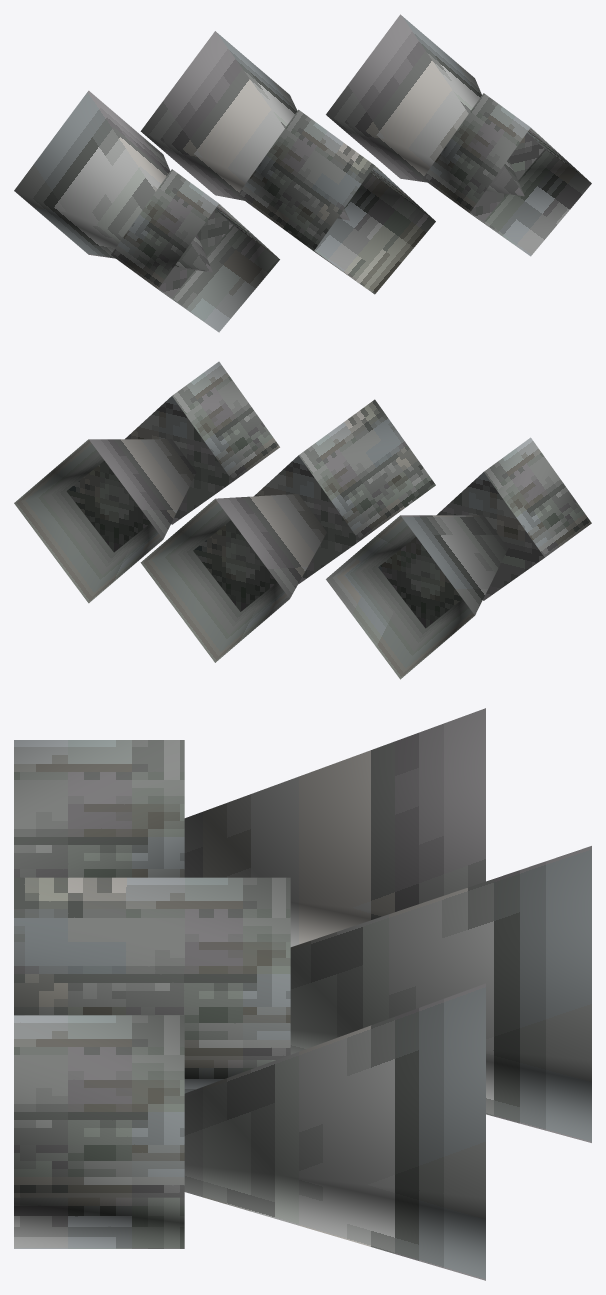
Rendered from ykl37r_engine_s01_l2.fbx.
3 views of the same model, one above another, from view 1: azimuth 30°, elevation 25°; view 2: azimuth 150°, elevation 25°; view 3: azimuth 270°, elevation 25° (orthographic). The views are drawn at different scales.
Parts seen in each view (by area): view 1: mesh_node; view 2: mesh_node; view 3: mesh_node.
Boxes of the visible parts, x1,y1,x2,y2 form: mesh_node: [14, 14, 591, 332]; mesh_node: [14, 361, 591, 679]; mesh_node: [14, 708, 591, 1280].
Size of the model in its own units: 10.99 by 3.75 by 6.6.
Materials: 1 (1 with a texture image).
